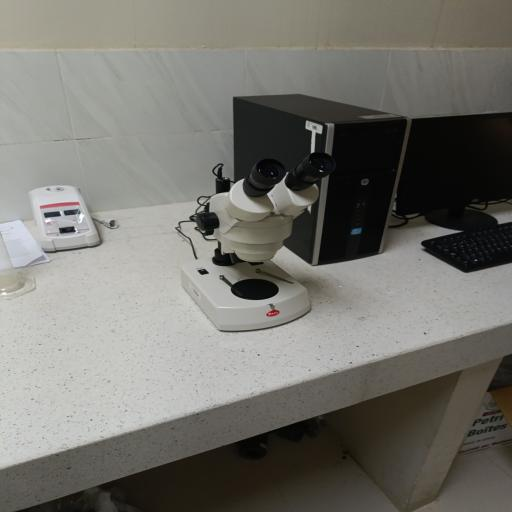Microscopio_estereo: (167, 144, 345, 342)
